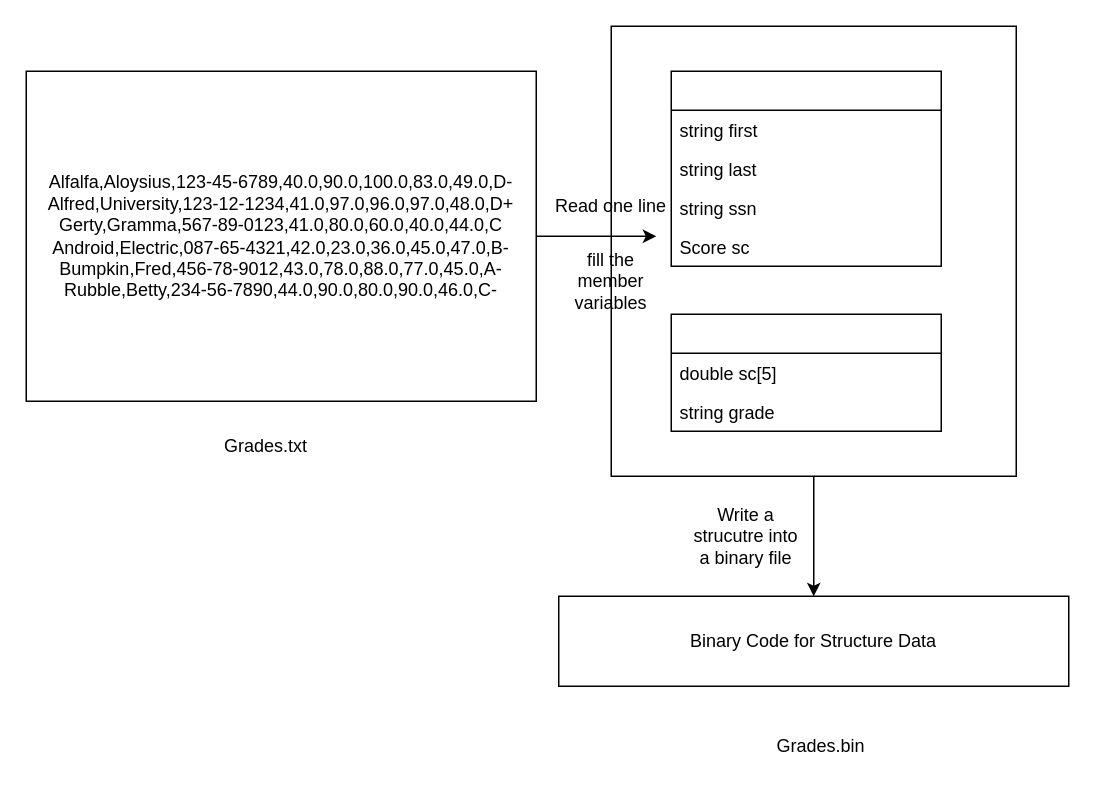
The diagram is 1095 pixels wide and 788 high, and some of its shapes have lost their labels. Here are the shapes that lost their labels. From the top down, the box of each, then its label:
(670, 70, 941, 266): Struct Grade
(670, 313, 941, 431): Struct Score
